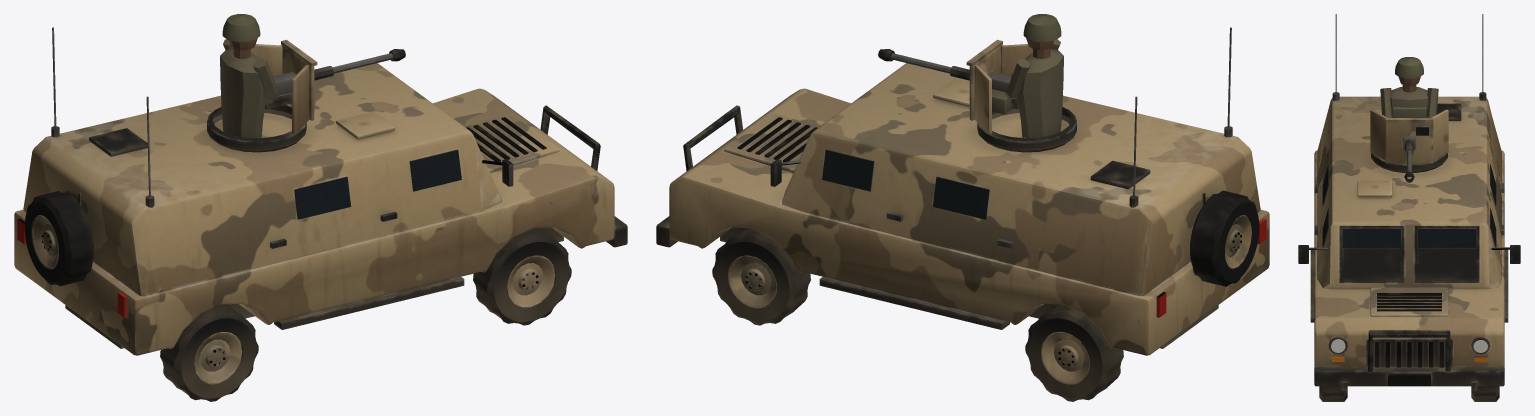
The model's file is fh_battle_e_convoy_scout.glb.
3 views of the same model, side by side, from view 1: azimuth 30°, elevation 25°; view 2: azimuth 150°, elevation 25°; view 3: azimuth 270°, elevation 25° (orthographic). The views are drawn at different scales.
Parts seen in each view (by area): view 1: convoy_scout, turret, wheel_1r, wheel_fr; view 2: convoy_scout, turret, wheel_1l, wheel_fl; view 3: convoy_scout, turret, wheel_fl, wheel_fr.
Boxes of the visible parts, box(x1,y1,x2,y2) form: convoy_scout: box(14, 27, 627, 355); turret: box(207, 14, 405, 152); wheel_1r: box(160, 304, 258, 401); wheel_fr: box(473, 228, 571, 325); convoy_scout: box(656, 27, 1269, 355); turret: box(878, 14, 1076, 152); wheel_1l: box(1025, 304, 1123, 401); wheel_fl: box(712, 228, 810, 325); convoy_scout: box(1298, 14, 1520, 390); turret: box(1370, 57, 1448, 182); wheel_fl: box(1471, 386, 1499, 401); wheel_fr: box(1319, 386, 1347, 401).
Size of the model in its own units: 1.1 by 0.644 by 0.515.
Materials: 2 (2 with a texture image).
